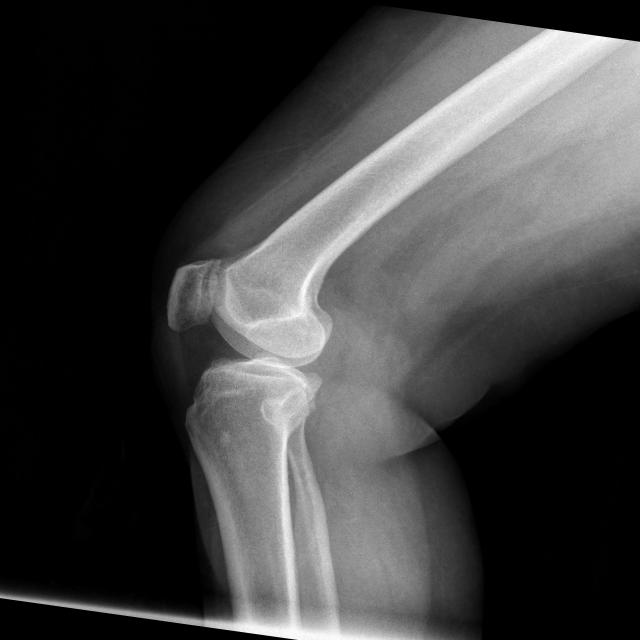Knee: (148, 251, 342, 455)
